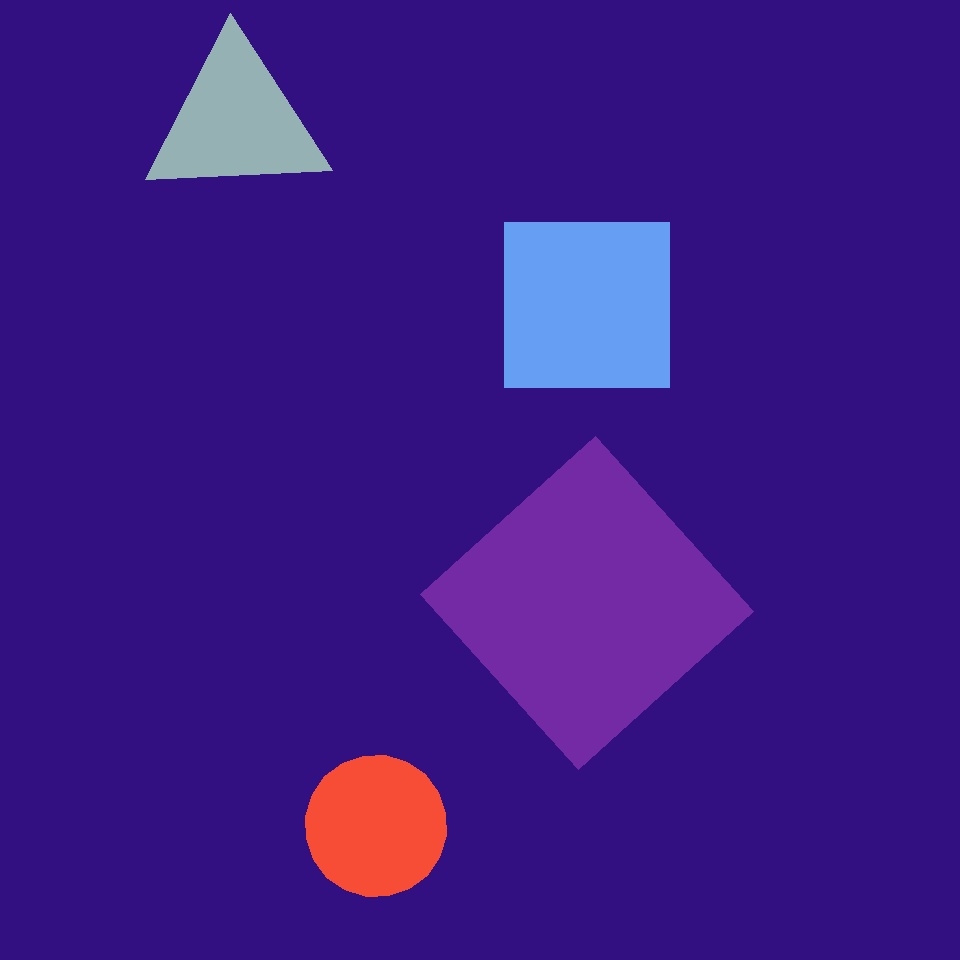circle: (142, 38, 330, 204), (298, 251, 463, 433)
square: (420, 436, 754, 770), (32, 306, 352, 627), (504, 222, 670, 388), (84, 815, 185, 917)
triangle: (306, 756, 446, 897)
